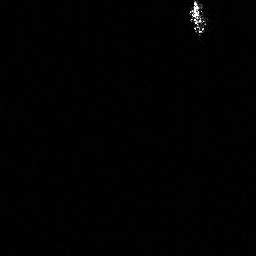ship: (185, 1, 213, 38)
